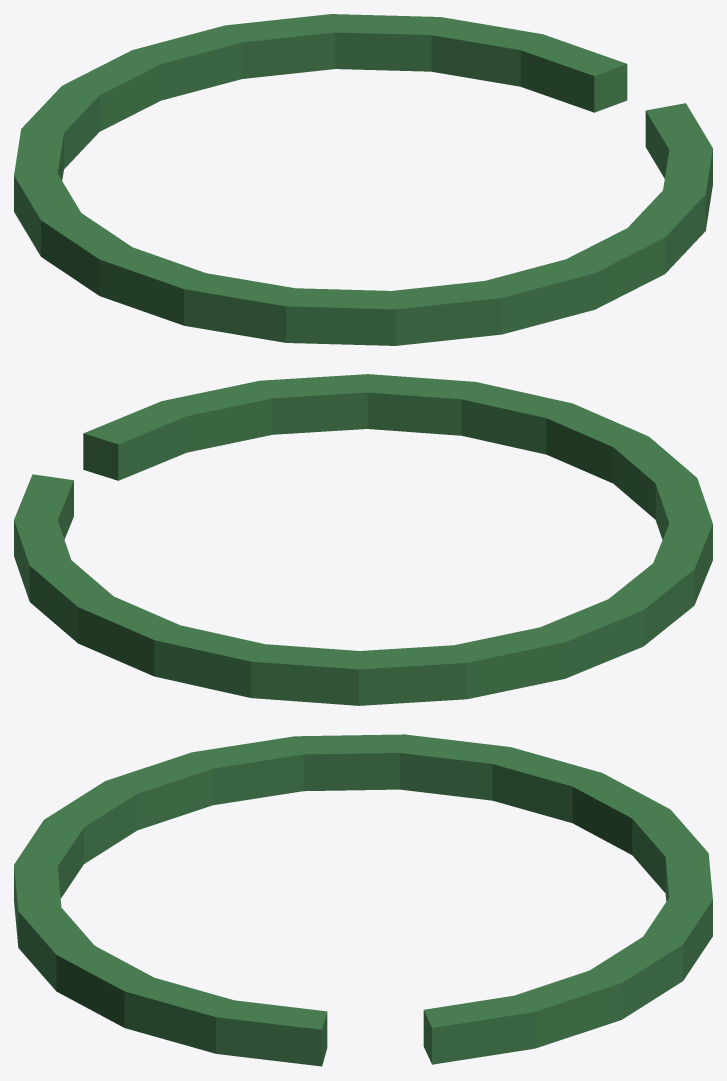
File: mesh_mazewalls04.gltf
3 views of the same model, one above another, from view 1: azimuth 30°, elevation 25°; view 2: azimuth 150°, elevation 25°; view 3: azimuth 270°, elevation 25° (orthographic).
Parts seen in each view (by area): view 1: mesh_mazewalls04; view 2: mesh_mazewalls04; view 3: mesh_mazewalls04.
Part boxes in pixels (x1,y1,x2,y2): mesh_mazewalls04: [14, 14, 712, 345]; mesh_mazewalls04: [14, 374, 712, 705]; mesh_mazewalls04: [14, 734, 712, 1066].
Bounding box in the file's own units: 167 × 9.65 × 167.
